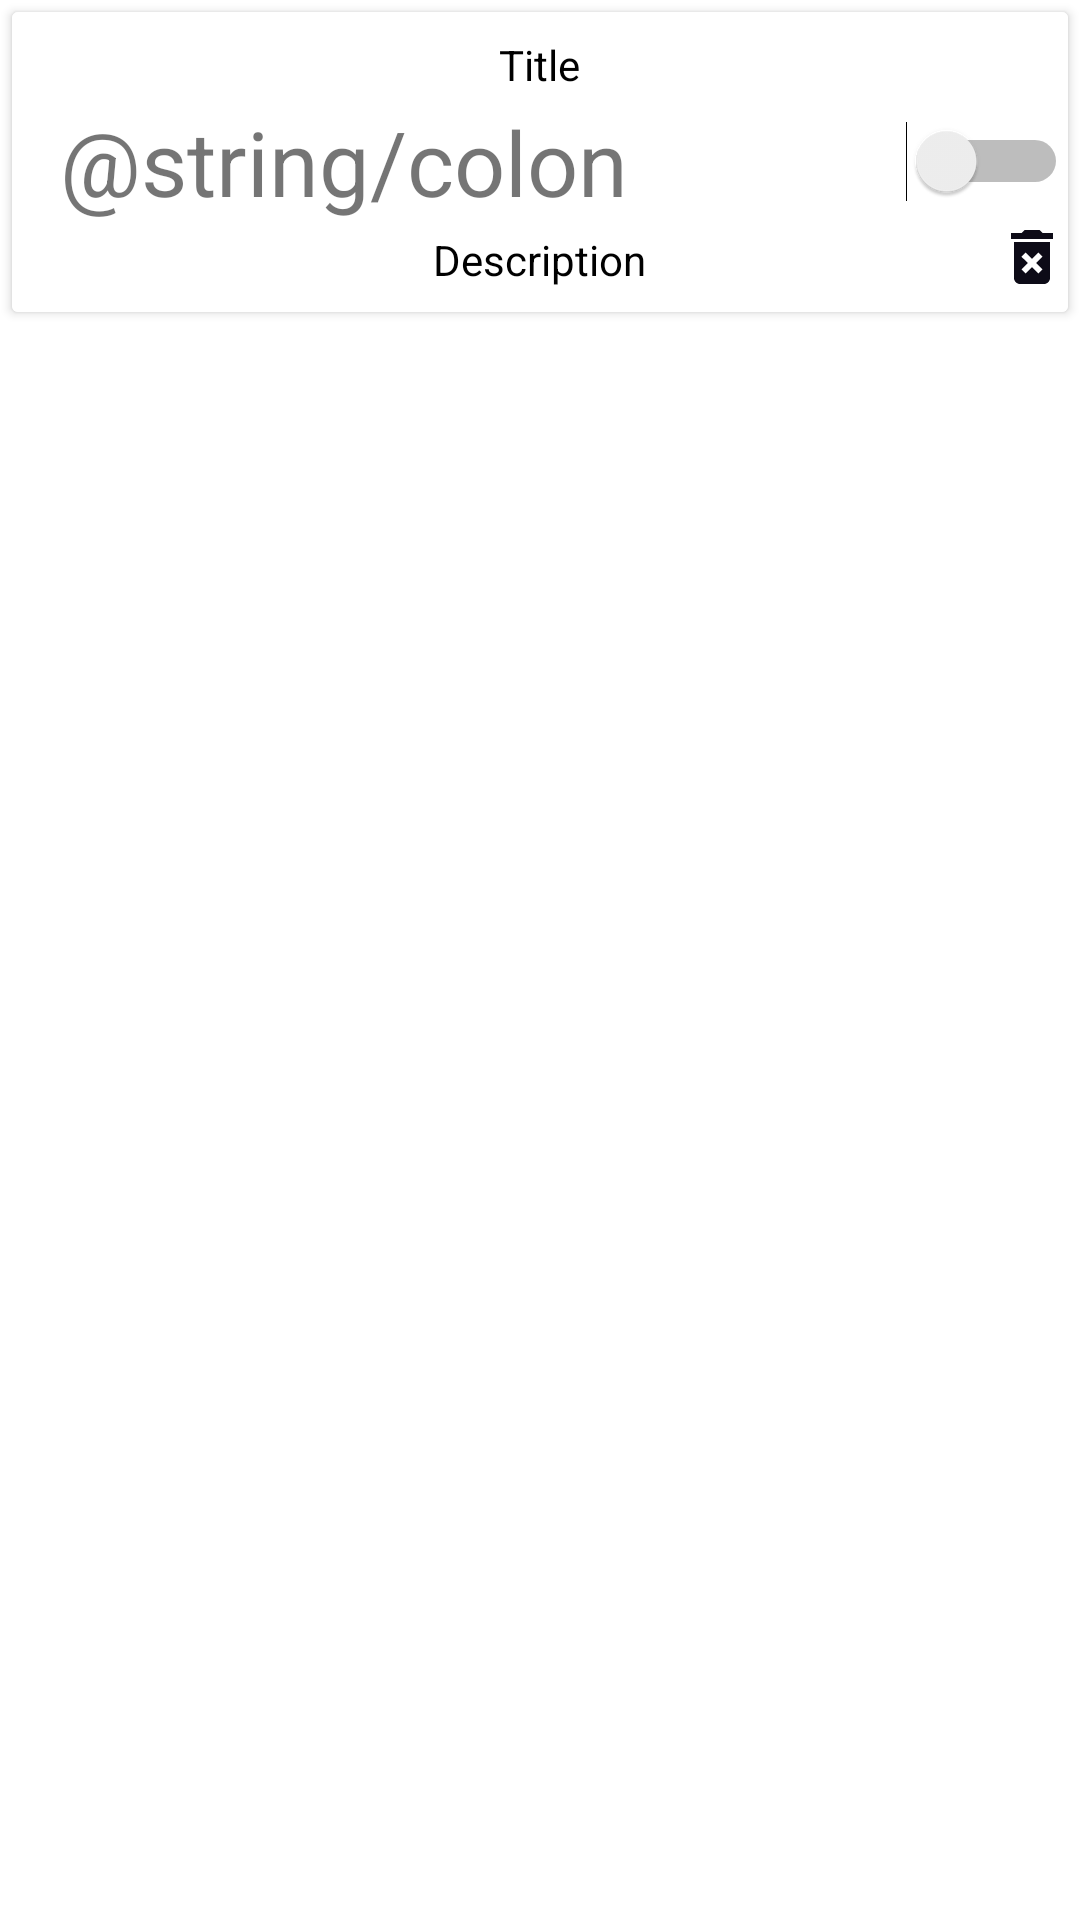

Icon bounding boxes for this 1080px x 1920px phone screenshot, format box(x1, y1, x2, y2):
delete forever: box(1011, 230, 1053, 284)
